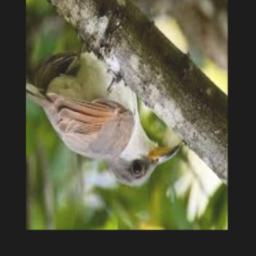Cuckoo: (27, 41, 180, 187)
